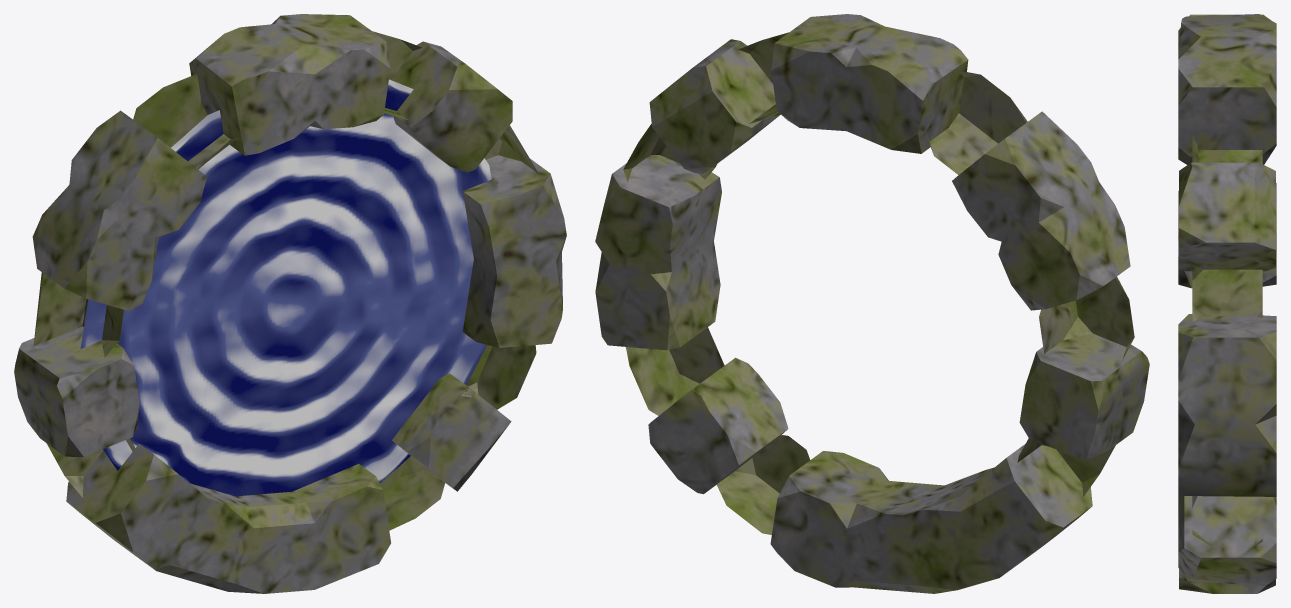
Rendered from portal.glb.
The picture shows the model from 3 angles, left to right: view 1: azimuth 30°, elevation 25°; view 2: azimuth 150°, elevation 25°; view 3: azimuth 270°, elevation 25°; orthographic projection.
Parts seen in each view (by area): view 1: BrickLarge_low, PortalSurface_low, BrickSmall_low; view 2: BrickLarge_low, BrickSmall_low; view 3: BrickLarge_low, BrickSmall_low.
Part boxes in pixels (left/top/right/bottom): BrickLarge_low: left=14, top=14, right=566, bottom=593; PortalSurface_low: left=80, top=79, right=491, bottom=496; BrickSmall_low: left=33, top=31, right=538, bottom=530; BrickLarge_low: left=595, top=14, right=1149, bottom=593; BrickSmall_low: left=623, top=32, right=1134, bottom=534; BrickLarge_low: left=1178, top=14, right=1276, bottom=593; BrickSmall_low: left=1192, top=134, right=1262, bottom=547.
Size of the model in its own units: 2.66 by 2.68 by 0.4499.
3 materials, 3 textured.
